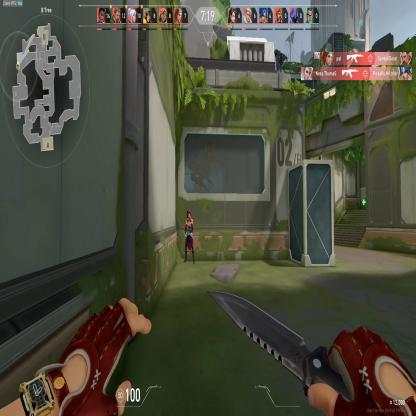enemy: (183, 207, 196, 265)
